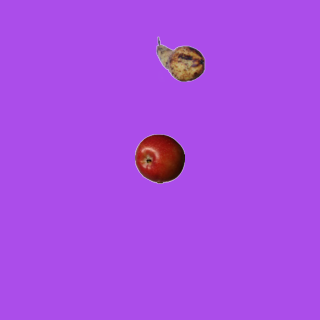Apple Braeburn: (134, 133, 184, 183)
Pear Abate: (155, 34, 205, 84)
